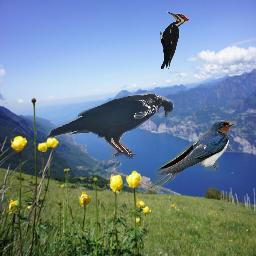Crow: (45, 92, 174, 159)
Swallow: (145, 120, 235, 195)
Woodpecker: (160, 11, 190, 69)
